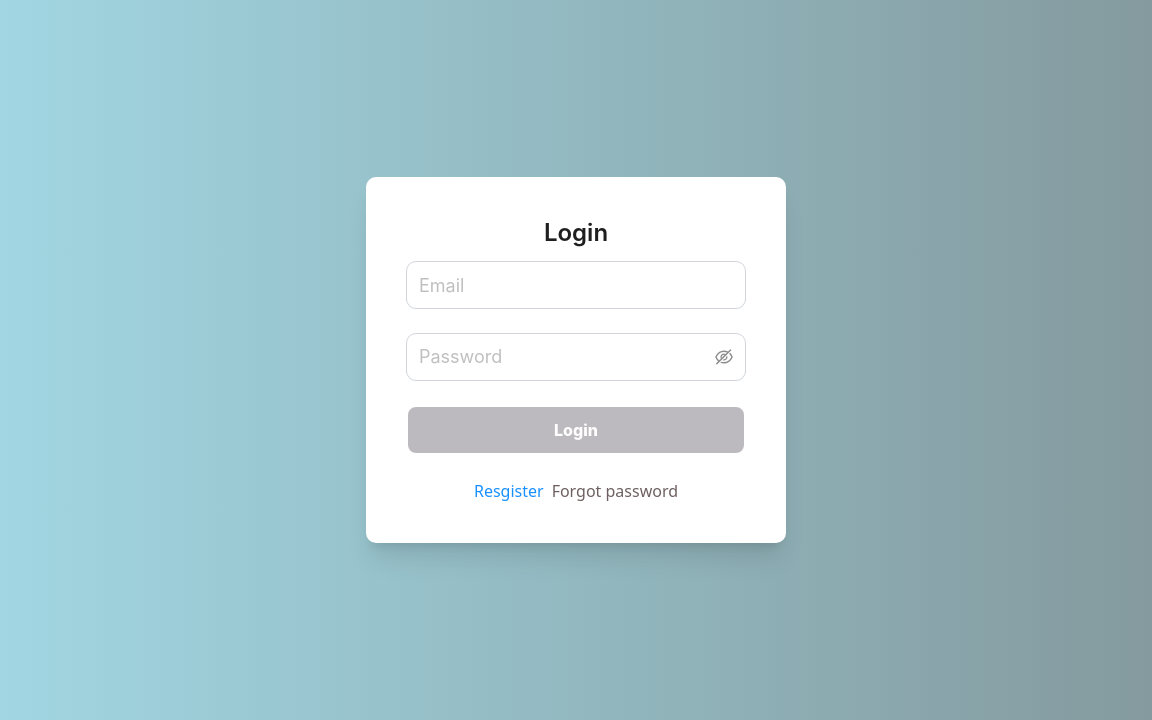
it: LoginPage › shows validation errors for invalid email and password
# Input invalid values
Type "a@b" into the field with placeholder "Email" at (576, 285), box [406,261,746,309]
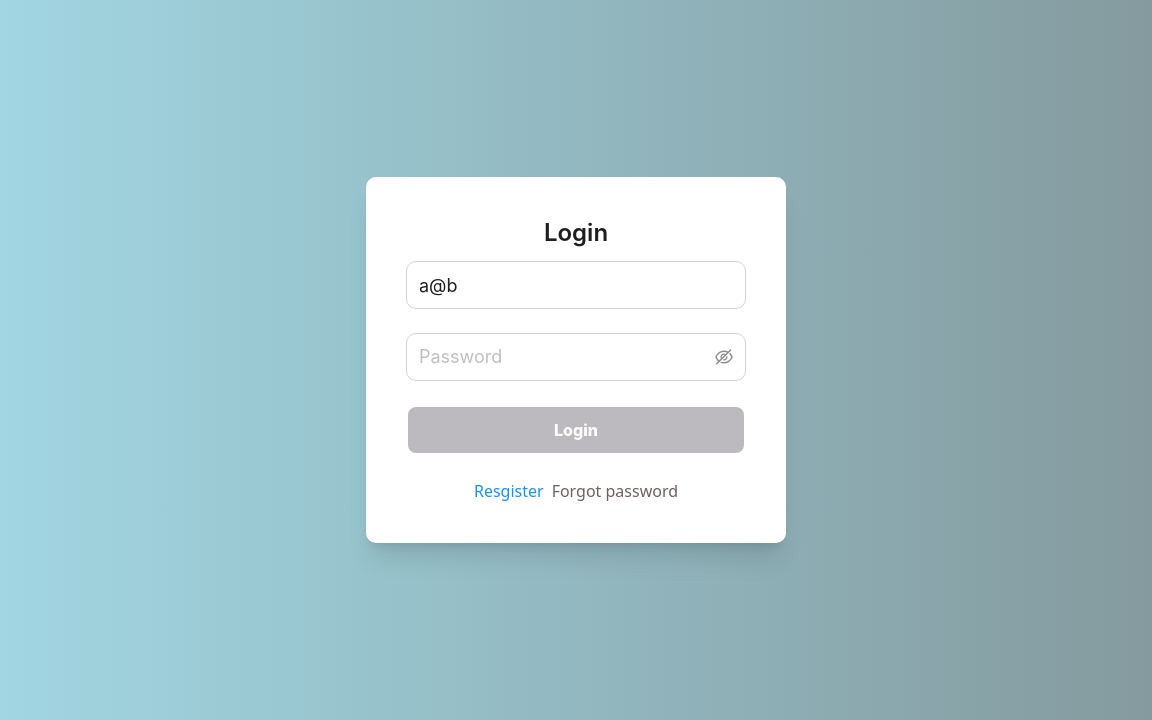
Type "short" into the password field with placeholder "Password" at (565, 357), box [419,338,711,376]
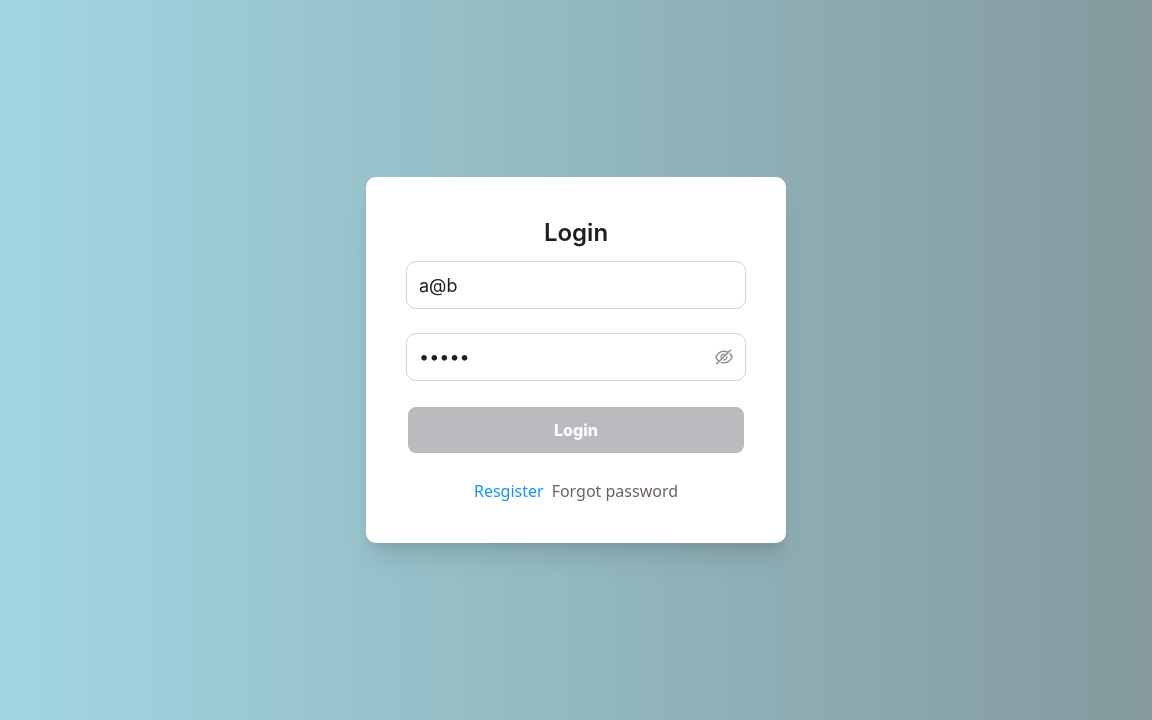
# Click login
Click the button "Login" at (576, 430), box [406,405,746,455]
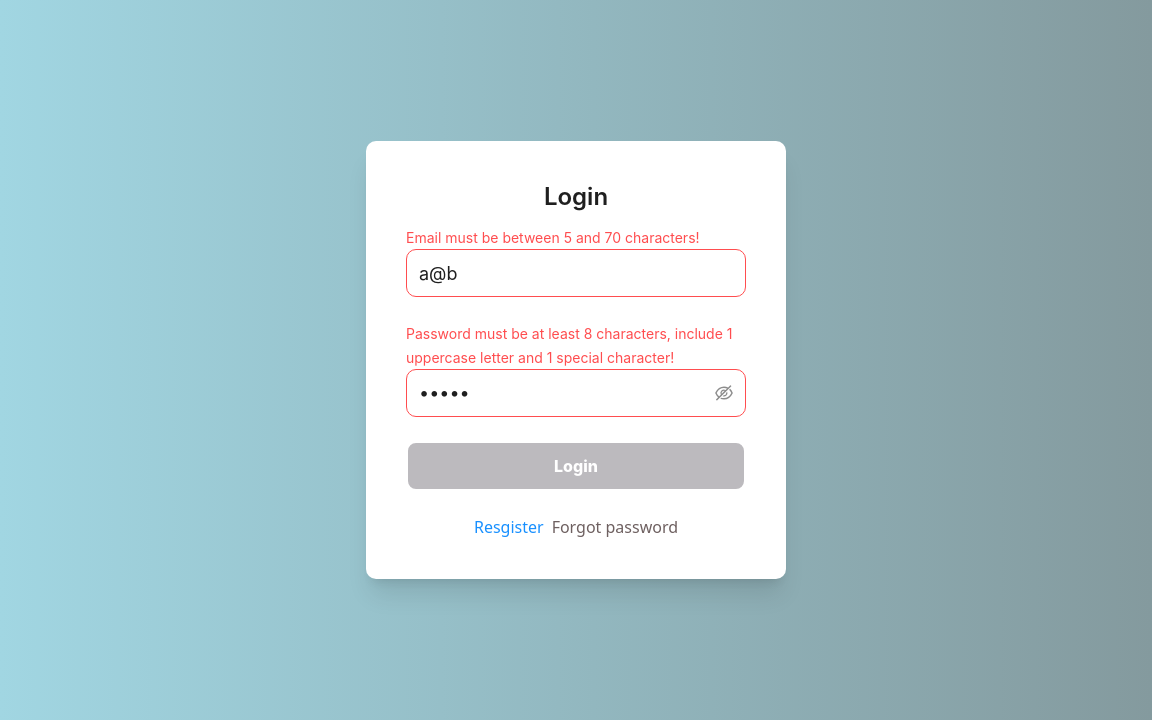
Expected: the text "Email must be between 5 and 70 characters!" is shown, [406,229,700,246]
Expected: the text "Password must be at least 8 characters" is shown, [406,325,732,366]
